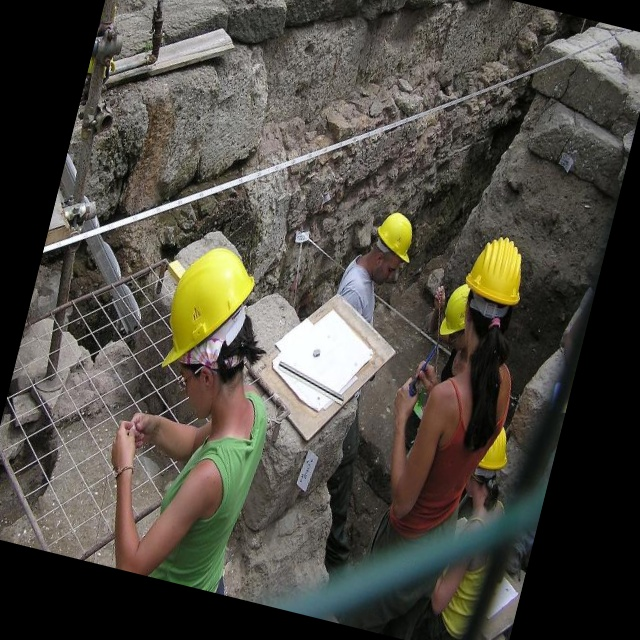Con_Casco: (149, 239, 270, 413), (456, 232, 532, 353), (367, 208, 420, 290)
